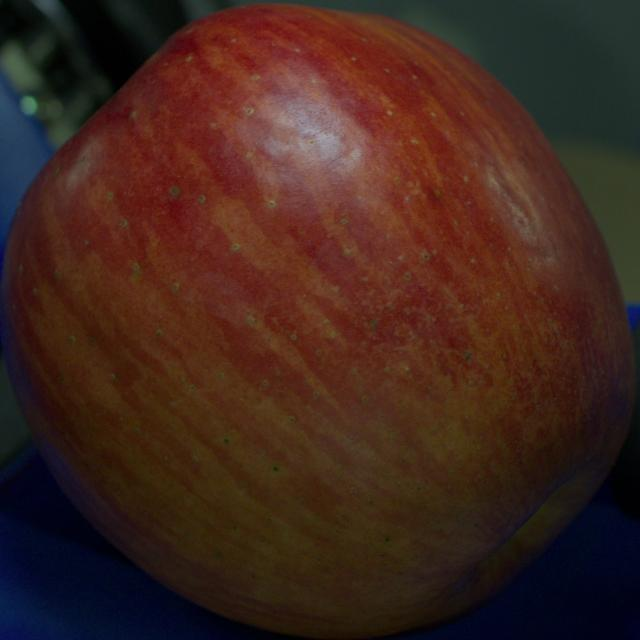apple: (0, 5, 635, 639)
